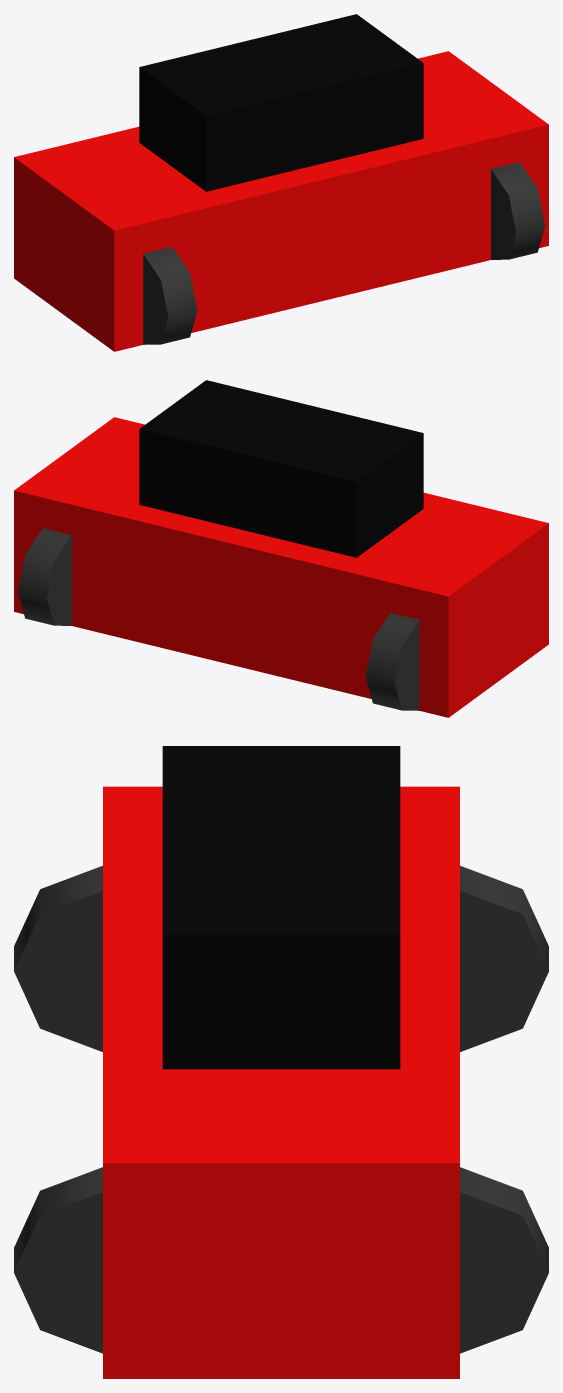
Rendered from voiture-course.glb.
3 views of the same model, one above another, from view 1: azimuth 30°, elevation 25°; view 2: azimuth 150°, elevation 25°; view 3: azimuth 270°, elevation 25° (orthographic). The views are drawn at different scales.
Size of the model in its own units: 2 by 0.8667 by 1.2.
